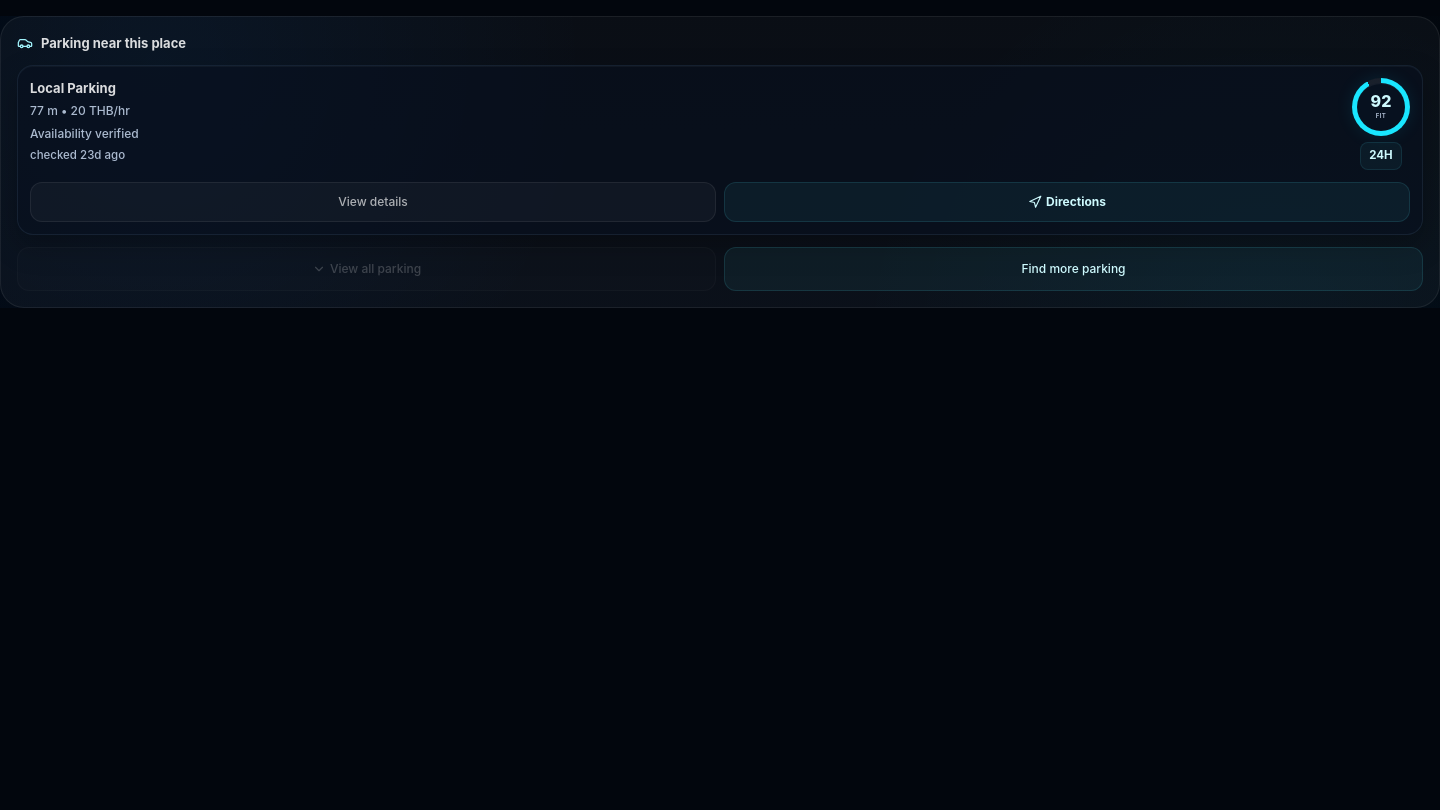
Scenario: manual Google parking fallback › keeps Google fallback results transient and exposes map actions
Click the button "Find more parking".
click(1074, 269)  # box [724,247,1423,291]
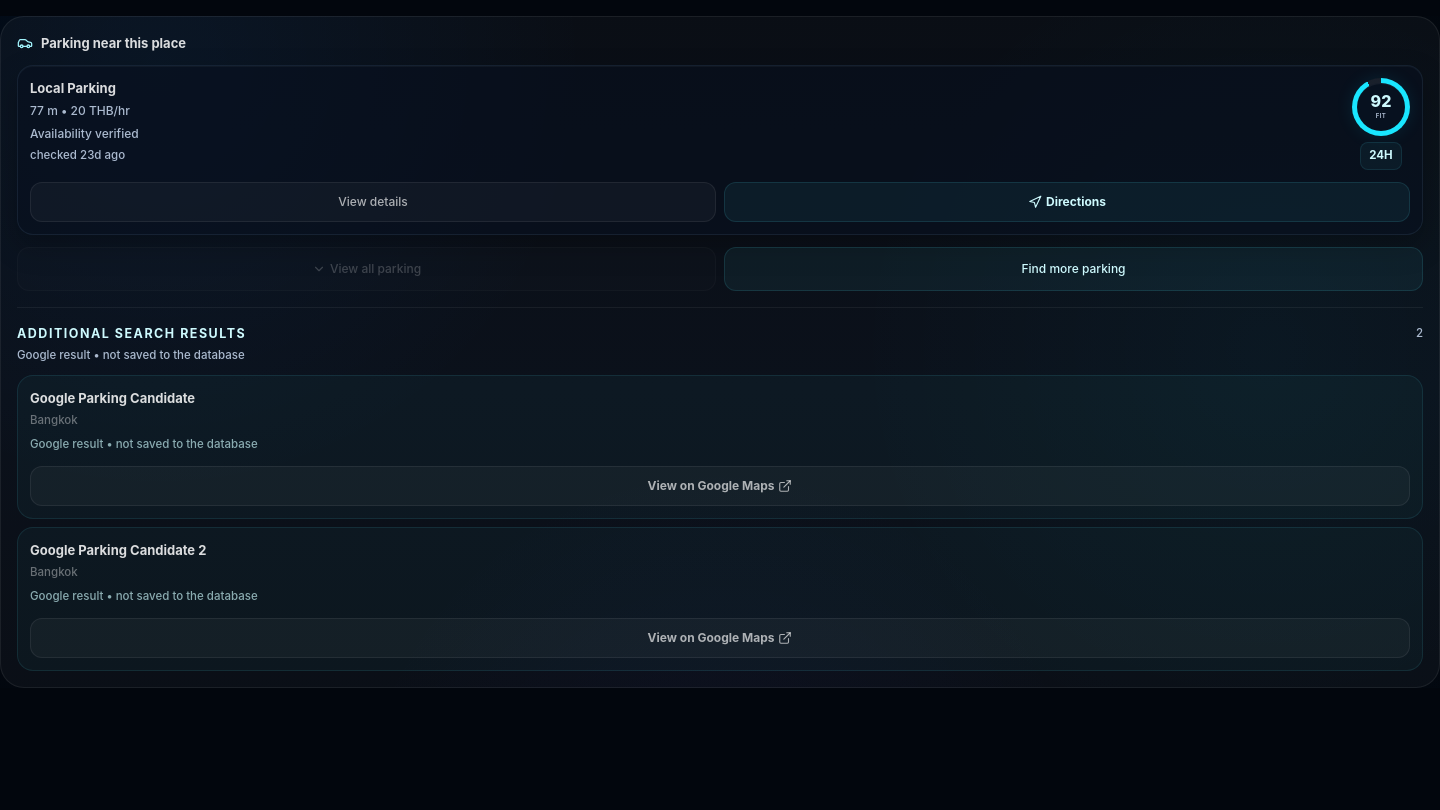
Now the text "Google Parking Candidate" is shown, box [30,390,195,406]
Now the 1st link "View on Google Maps" is shown, box [30,466,1410,506]
